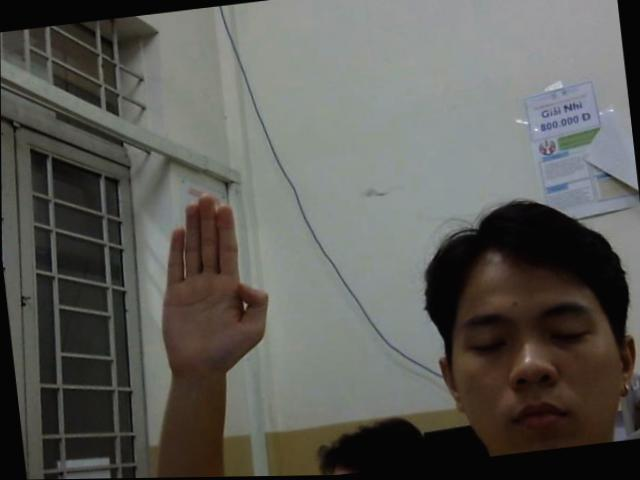B: (142, 187, 280, 378)
